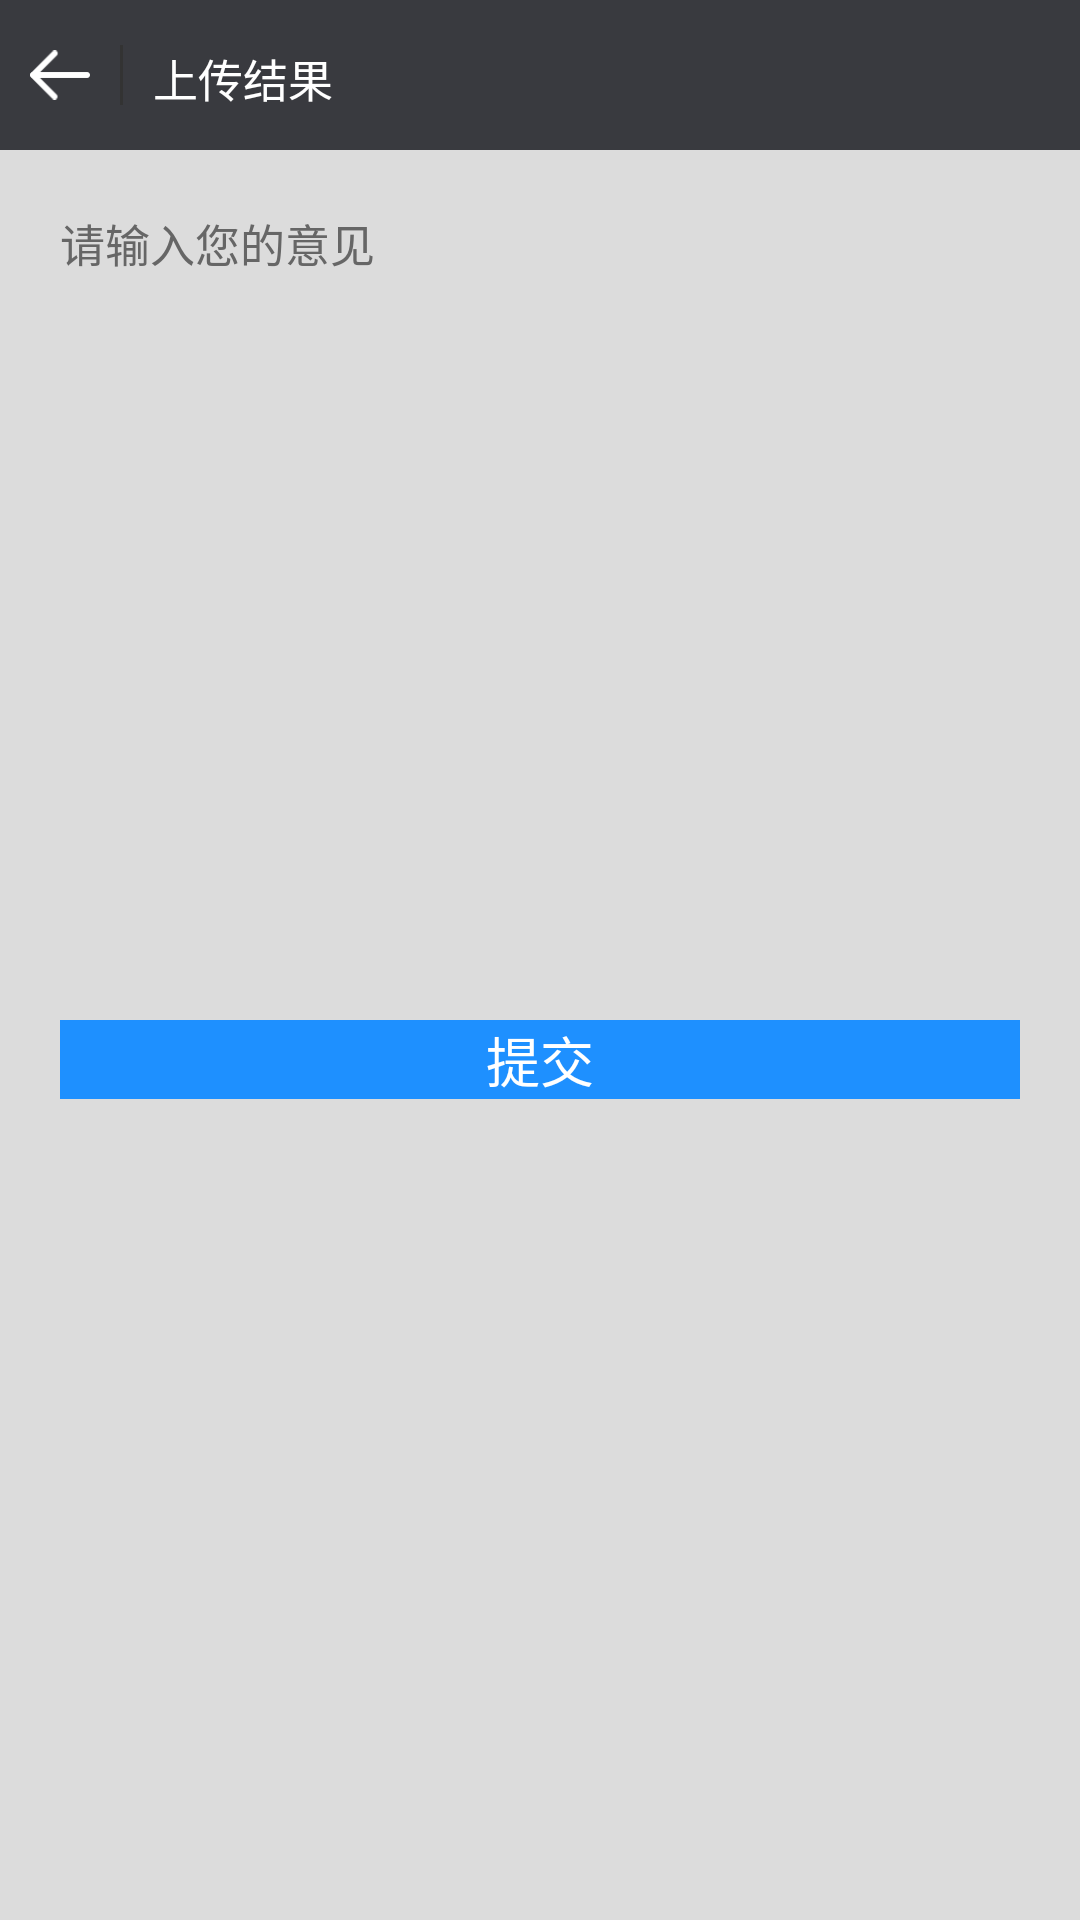

Icon click points for this 1080px x 1920px phone screenshot, format [x,y]:
返回: [60,75]
